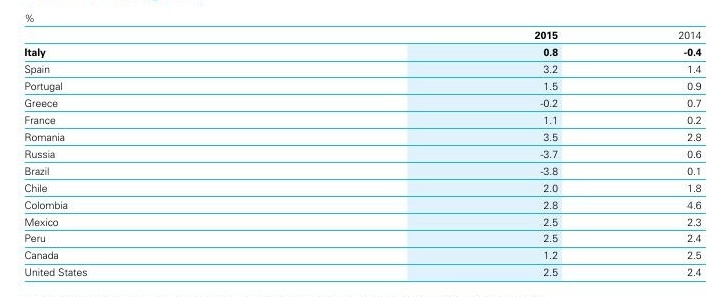table: (0, 0, 726, 297)
